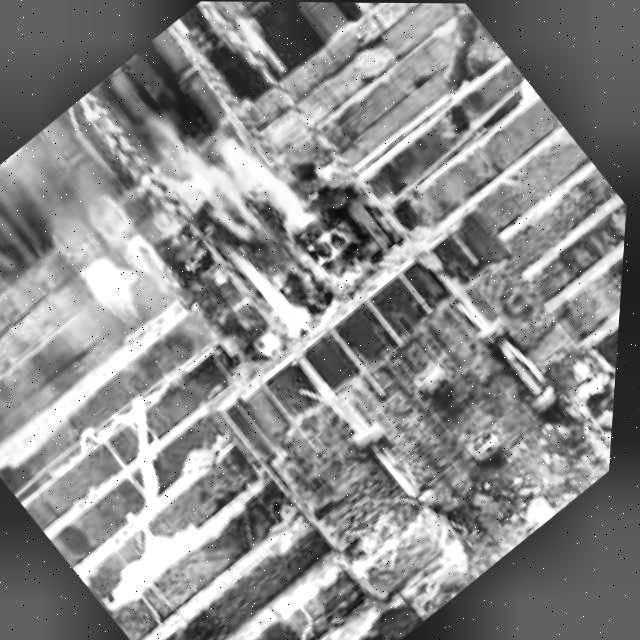Fire: (122, 84, 384, 349)
